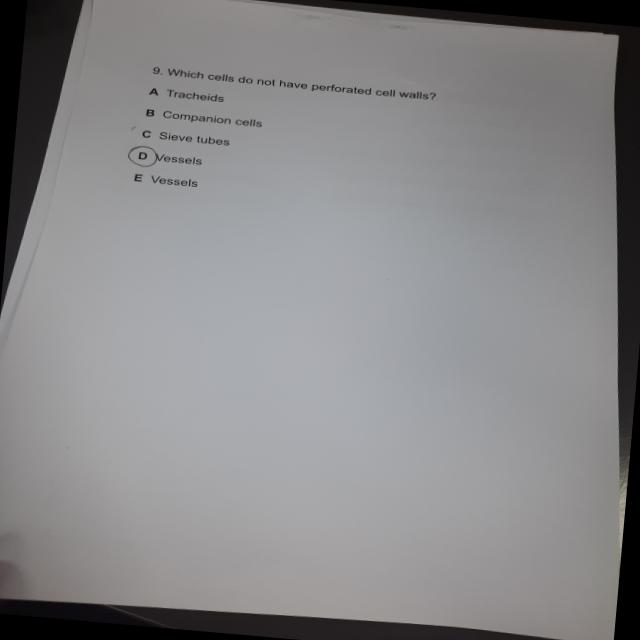D: (123, 144, 162, 170)
